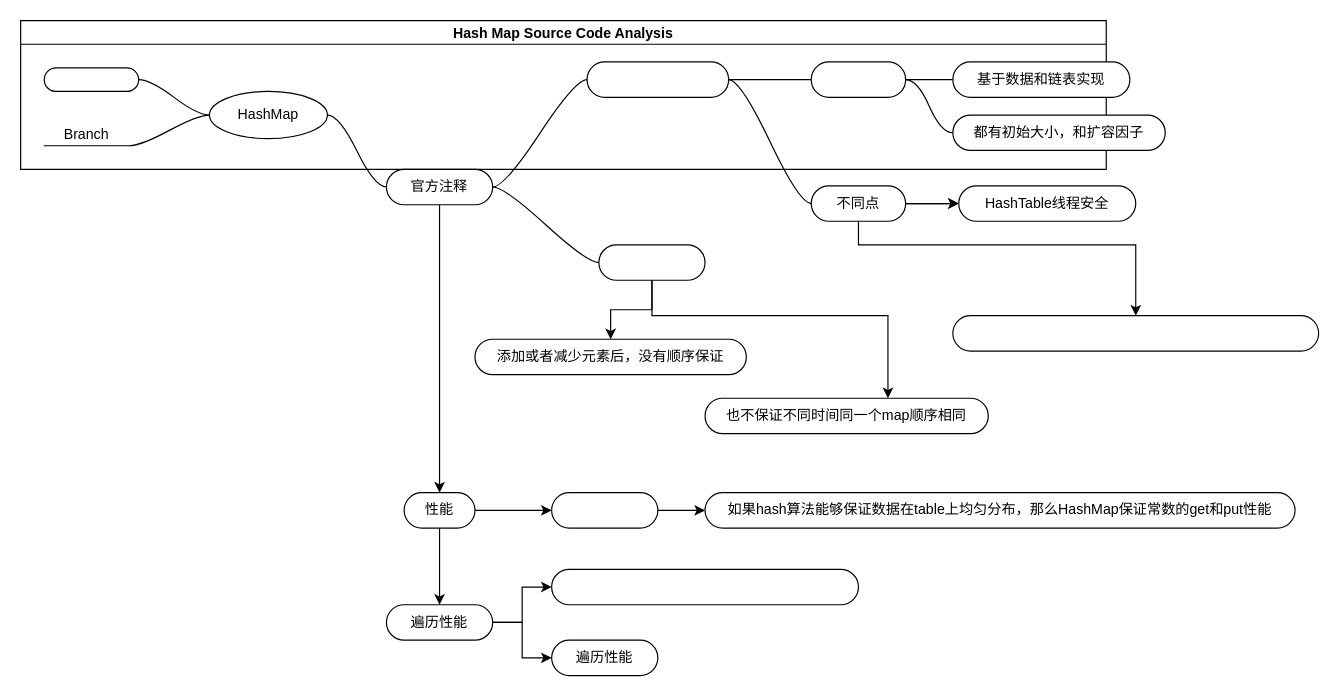
The diagram is 1339 pixels wide and 696 high, and some of its shapes have lost their labels. Here are the shapes that lost their labels. From the top down, the centre of each, then its label:
the point at 91,79: Topic
the point at 657,79: HashTable比较
the point at 858,79: 相同点
the point at 651,262: 遍历顺序
the point at 1135,332: HashTable不允许key和value为null，HashMap允许
the point at 604,509: 基本性能
the point at 704,586: 与bucket数量和key-value对的数量成比例
